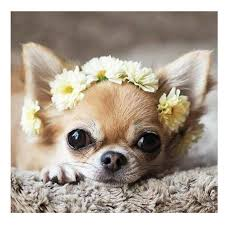Bulldog: (11, 32, 219, 205)
